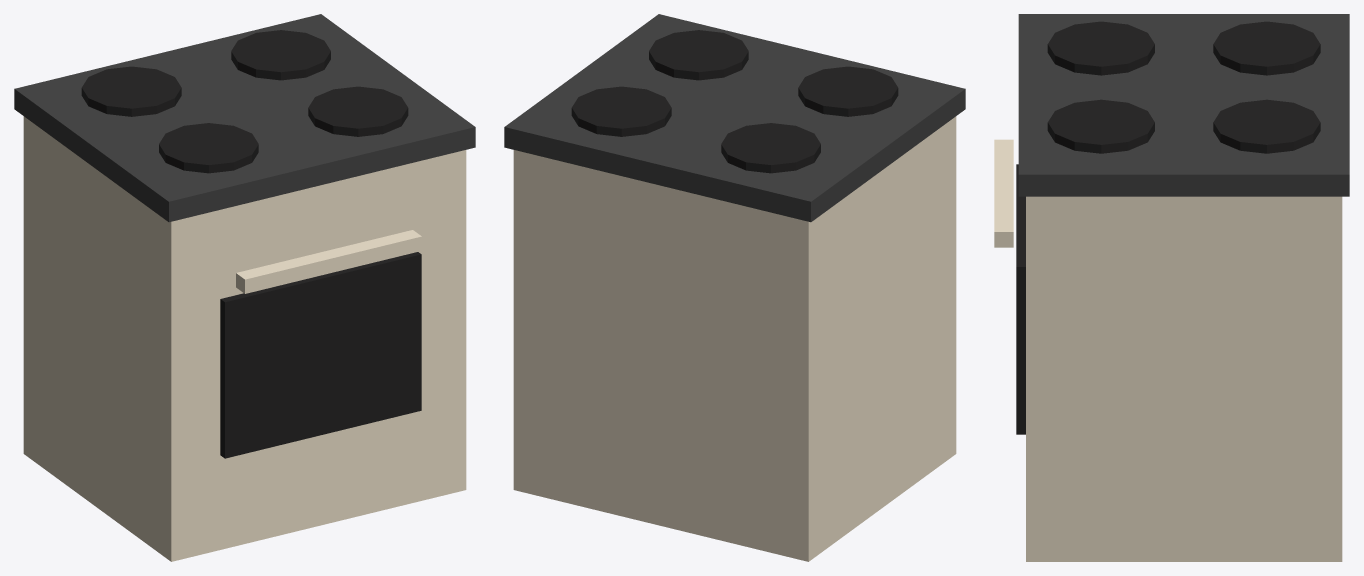
The picture shows the model from 3 angles, left to right: view 1: azimuth 30°, elevation 25°; view 2: azimuth 150°, elevation 25°; view 3: azimuth 270°, elevation 25°; orthographic projection. The views are drawn at different scales.
Parts seen in each view (by area): view 1: Stove, Hob, Oven window, Door handle, Burner.002, Burner.001, Burner.003, Burner; view 2: Stove, Hob, Burner.003, Burner, Burner.002, Burner.001; view 3: Stove, Hob, Burner.002, Burner.001, Burner, Burner.003, Oven window, Door handle.
Part boxes in pixels (x1,y1,x2,y2): Stove: [23, 116, 466, 561]; Hob: [14, 14, 475, 222]; Oven window: [220, 252, 421, 458]; Door handle: [236, 230, 421, 293]; Burner.002: [308, 86, 408, 136]; Burner.001: [81, 66, 181, 116]; Burner.003: [231, 30, 330, 80]; Burner: [159, 123, 258, 173]; Stove: [513, 116, 956, 561]; Hob: [504, 14, 965, 222]; Burner.003: [571, 86, 671, 136]; Burner: [798, 66, 898, 116]; Burner.002: [649, 30, 748, 80]; Burner.001: [721, 123, 820, 173]; Stove: [1026, 196, 1342, 561]; Hob: [1018, 14, 1349, 196]; Burner.002: [1047, 99, 1154, 153]; Burner.001: [1213, 21, 1320, 75]; Burner: [1047, 21, 1154, 75]; Burner.003: [1213, 99, 1320, 153]; Oven window: [1016, 164, 1025, 434]; Door handle: [994, 139, 1013, 247].
Bounding box in the file's own units: 0.78 × 0.91 × 0.73.
Materials: 1 (1 with a texture image).
